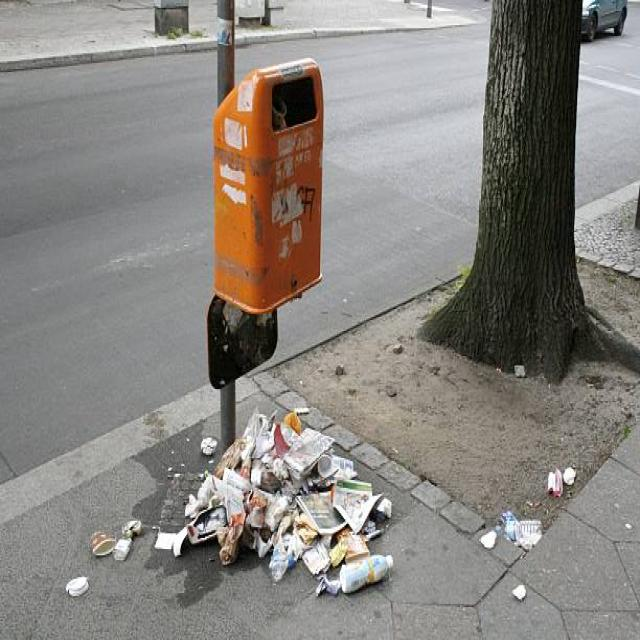metal: (216, 72, 334, 304)
plastic: (470, 461, 577, 559)
trash: (168, 423, 404, 593)
